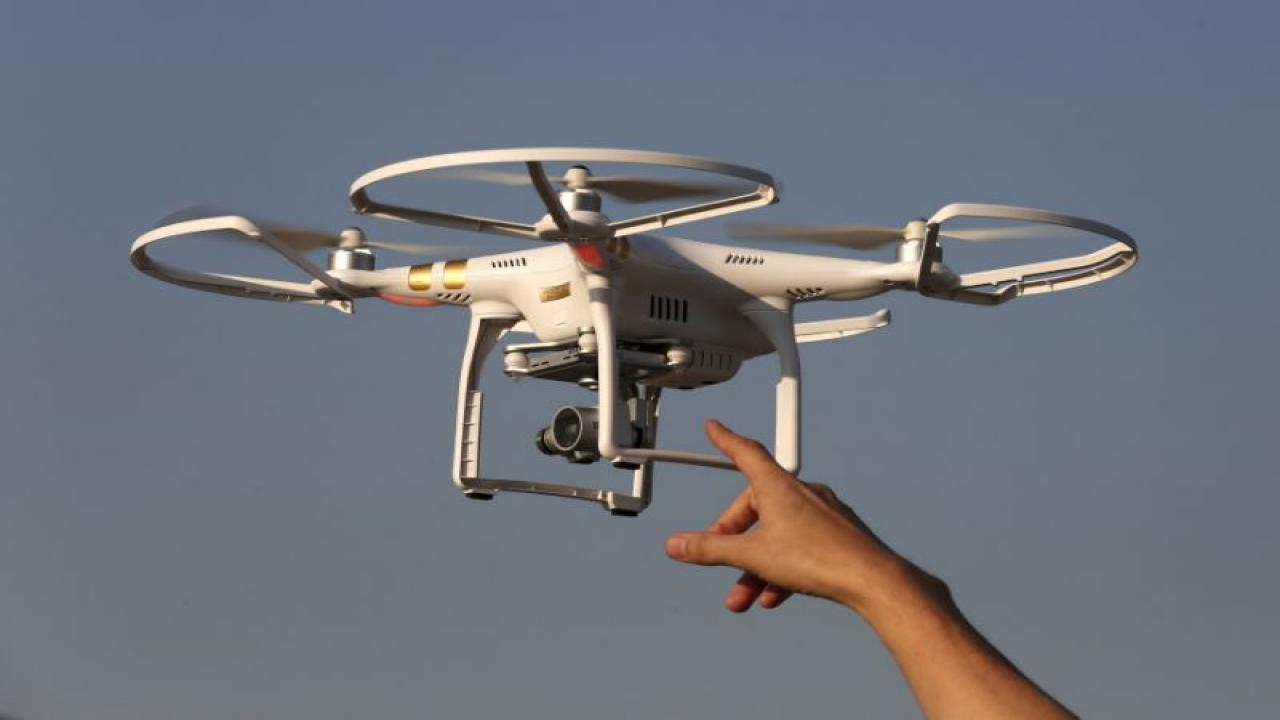Drone: (115, 132, 1148, 525)
